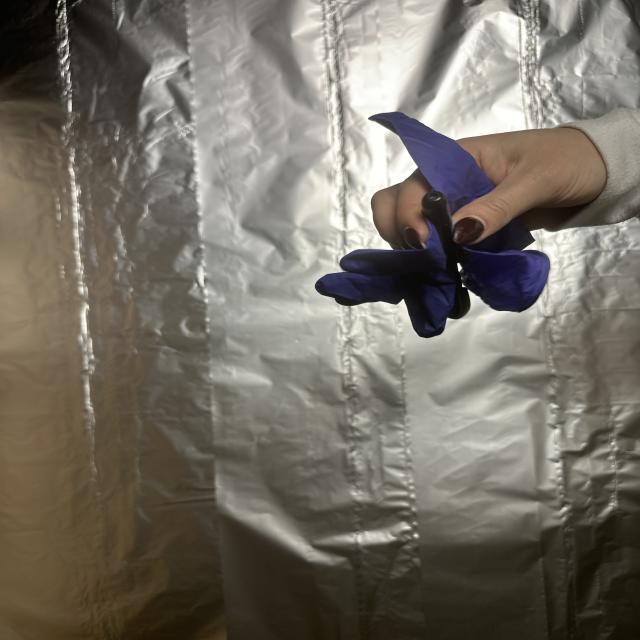glove_not_fitted: (312, 109, 640, 341)
